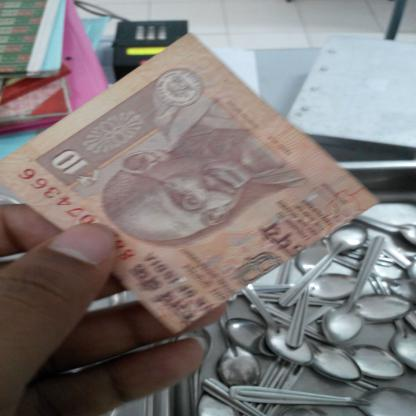Old10Front: (0, 34, 379, 332)
